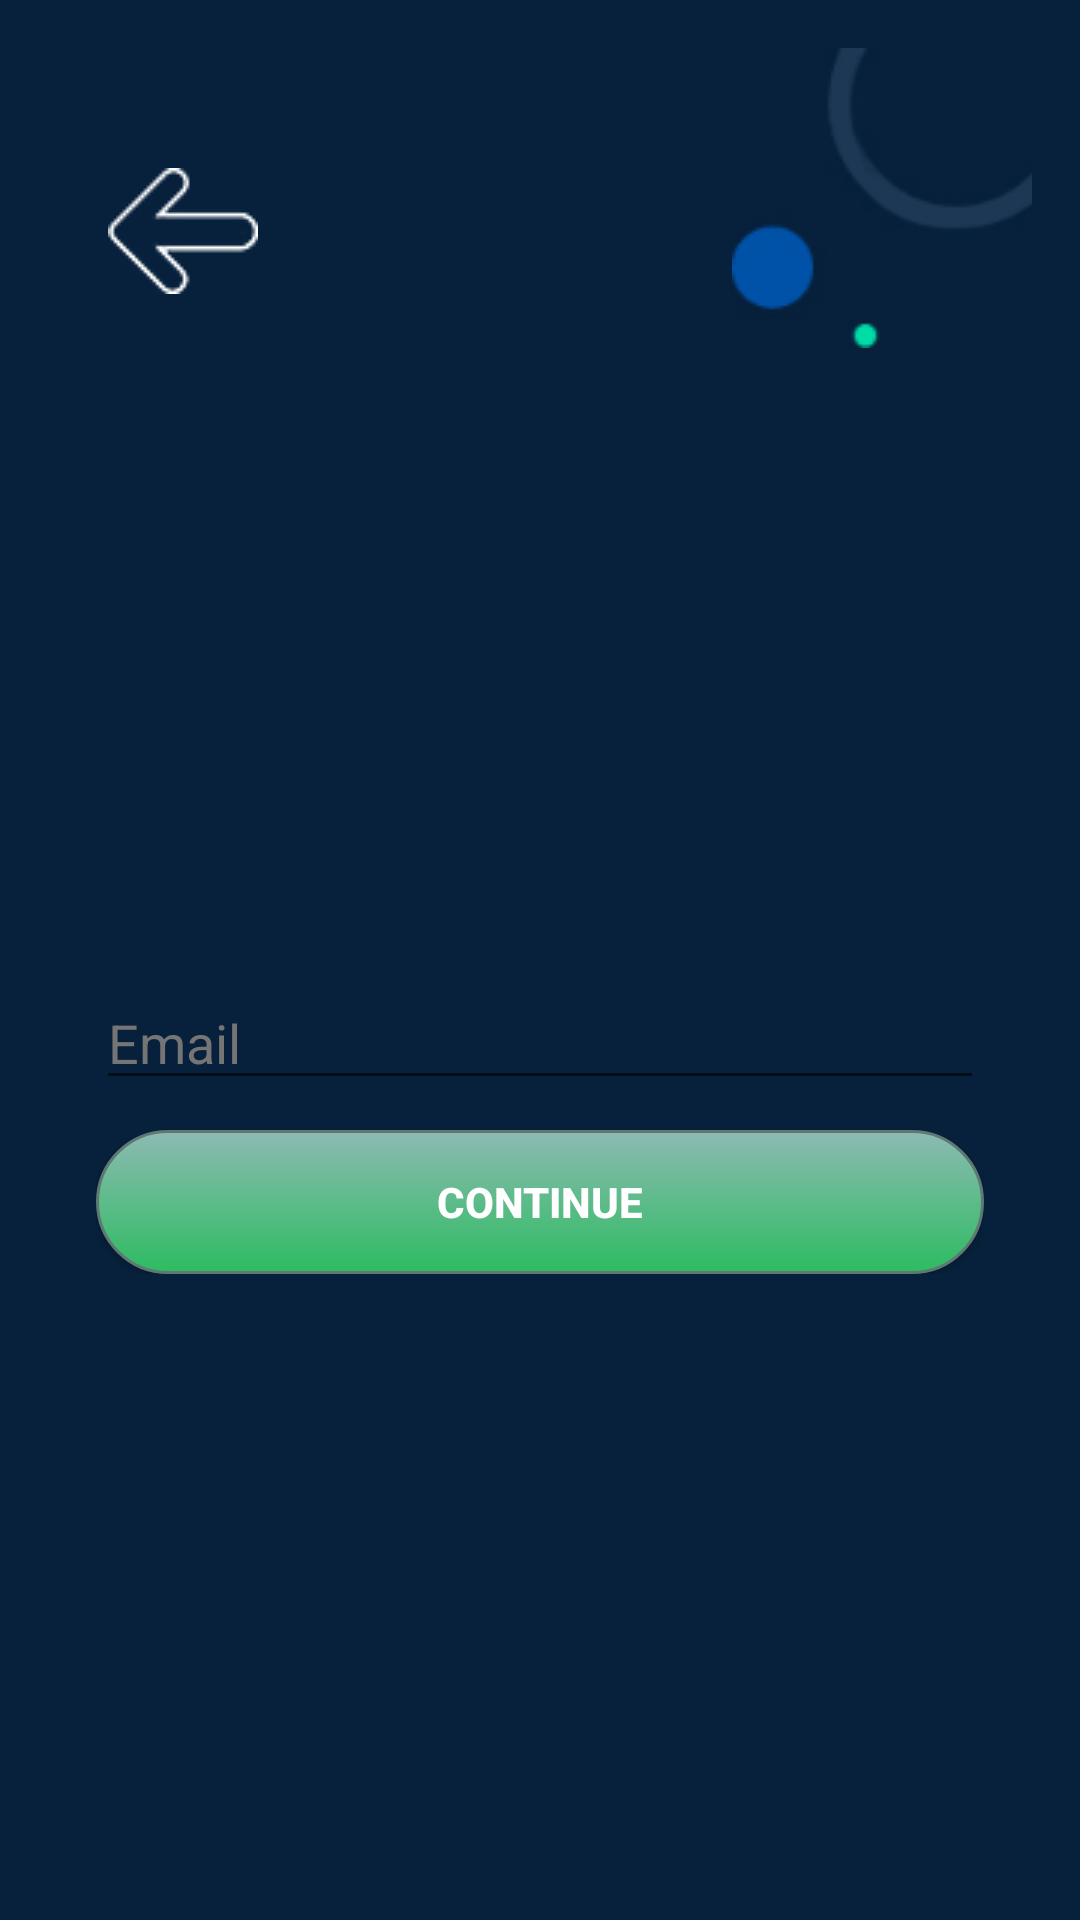

Icons on this 1080w x 1920h Android screen, each with its box as rect(x1, y1, x2, y2):
back: rect(108, 168, 258, 294)
